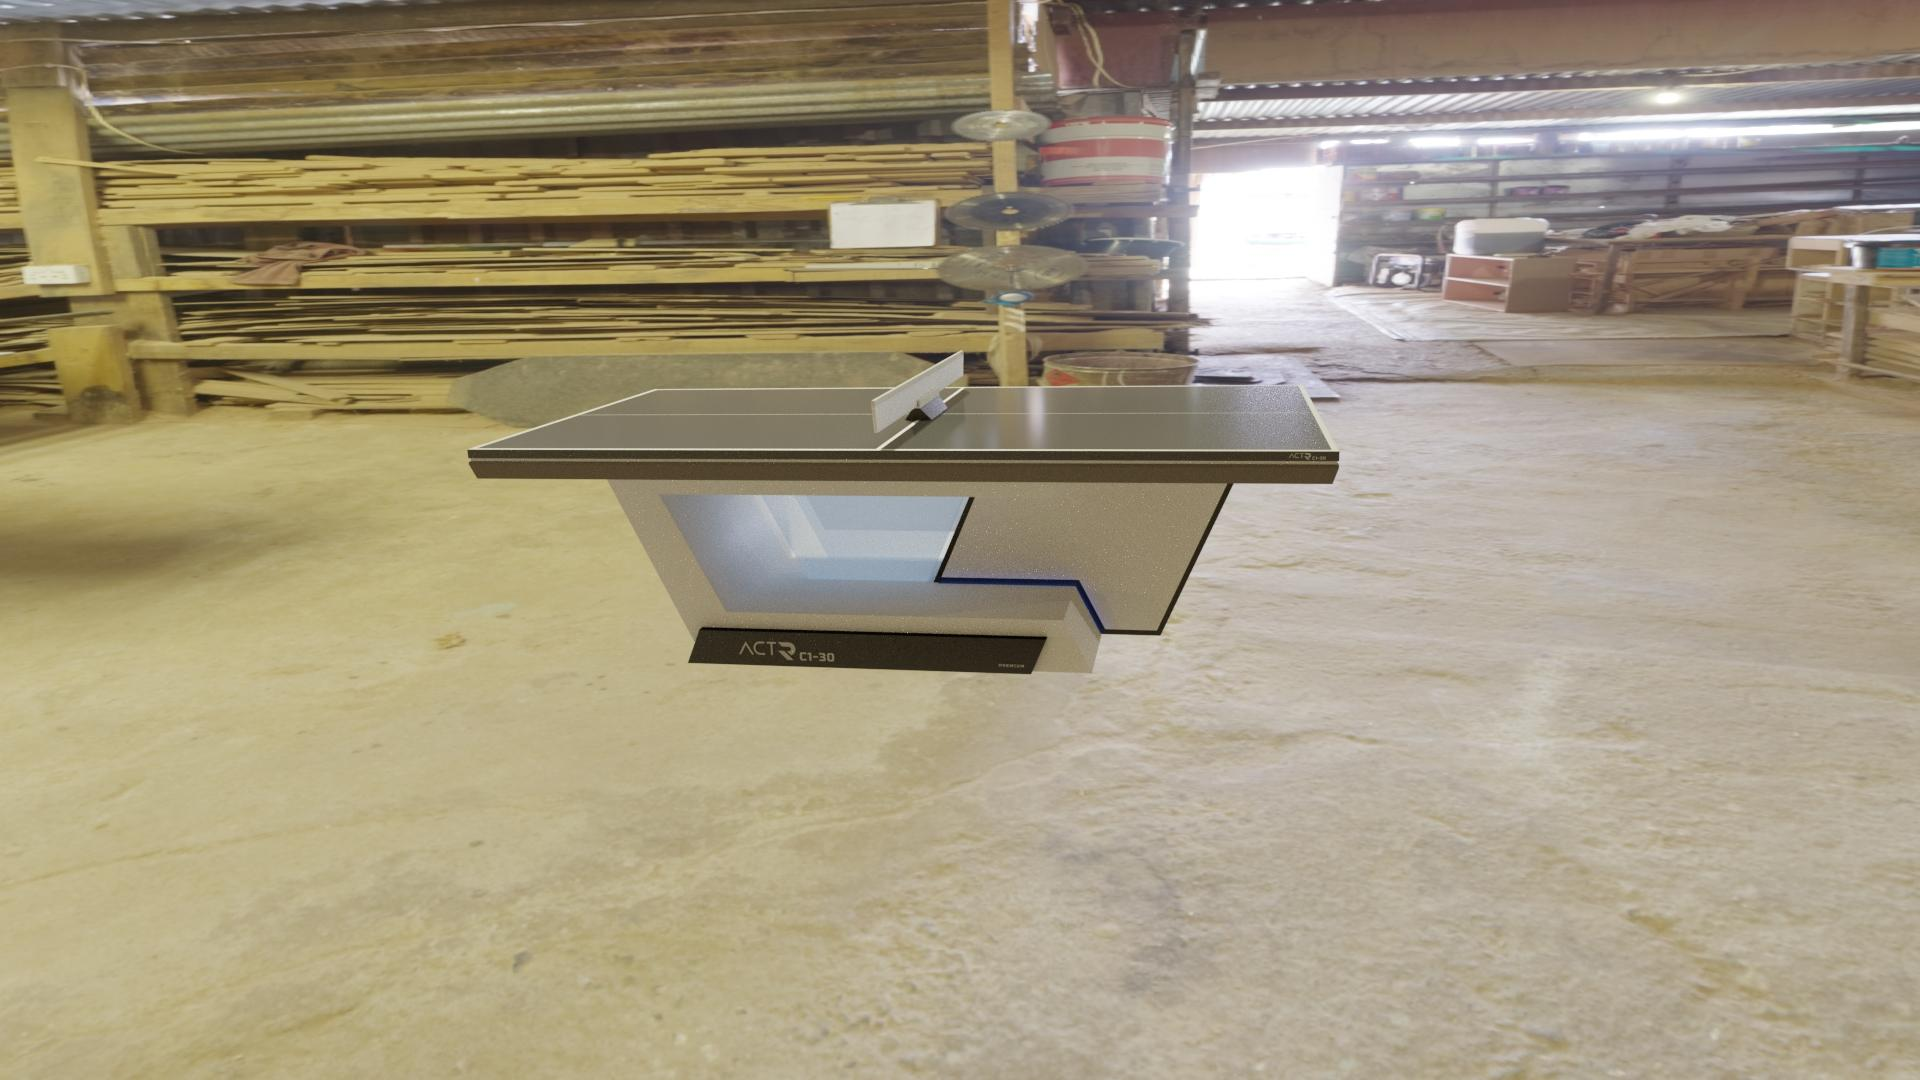table: (476, 385, 1332, 450)
